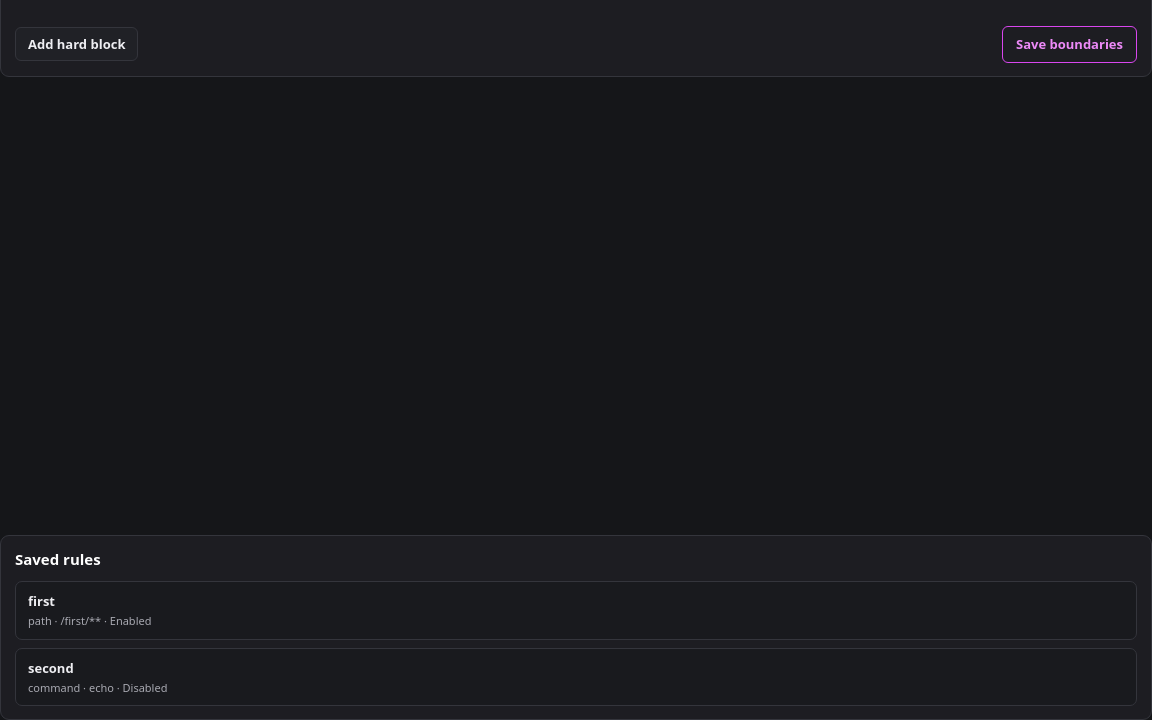
Test: ExecutionBoundaries › portals the inventory and selects saved rules while preserving Rule ID focus as it changes
The width and height of the screenshot is (1152, 720).
Click the button "first path · /first/** · Enabled" at (81, 621), box [28,592,1124,629]
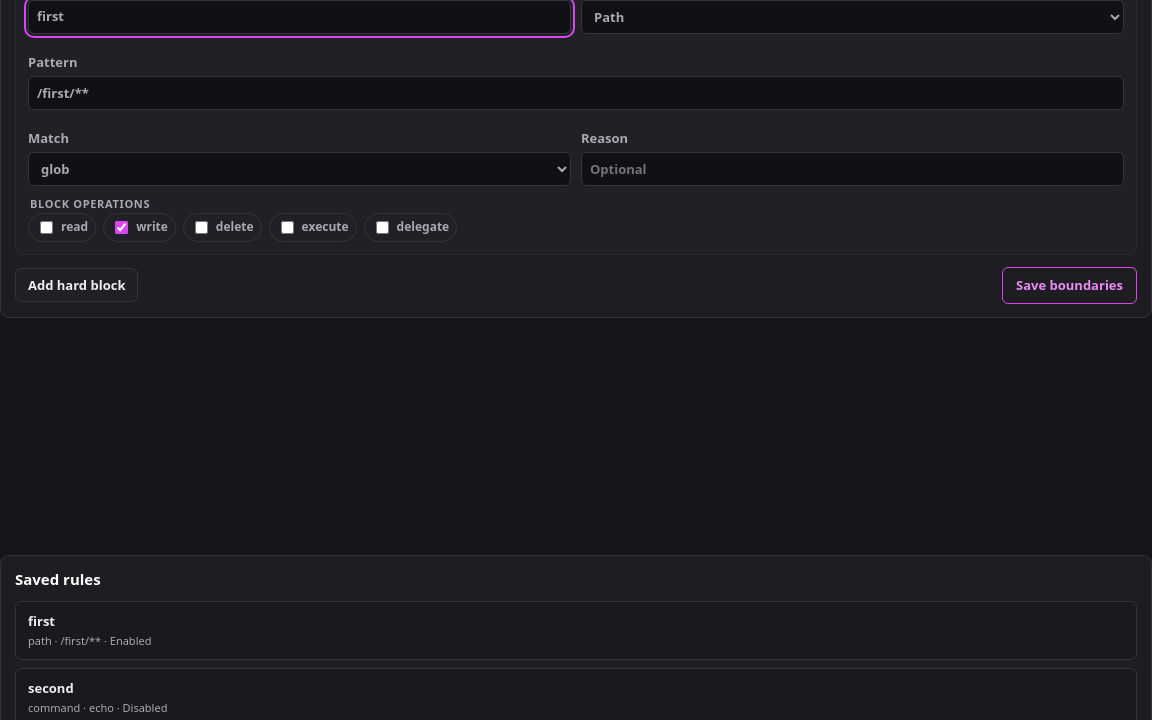
Replace the text in the field labelled "Rule ID" with "first-a" at (300, 17), box [28,0,571,34]
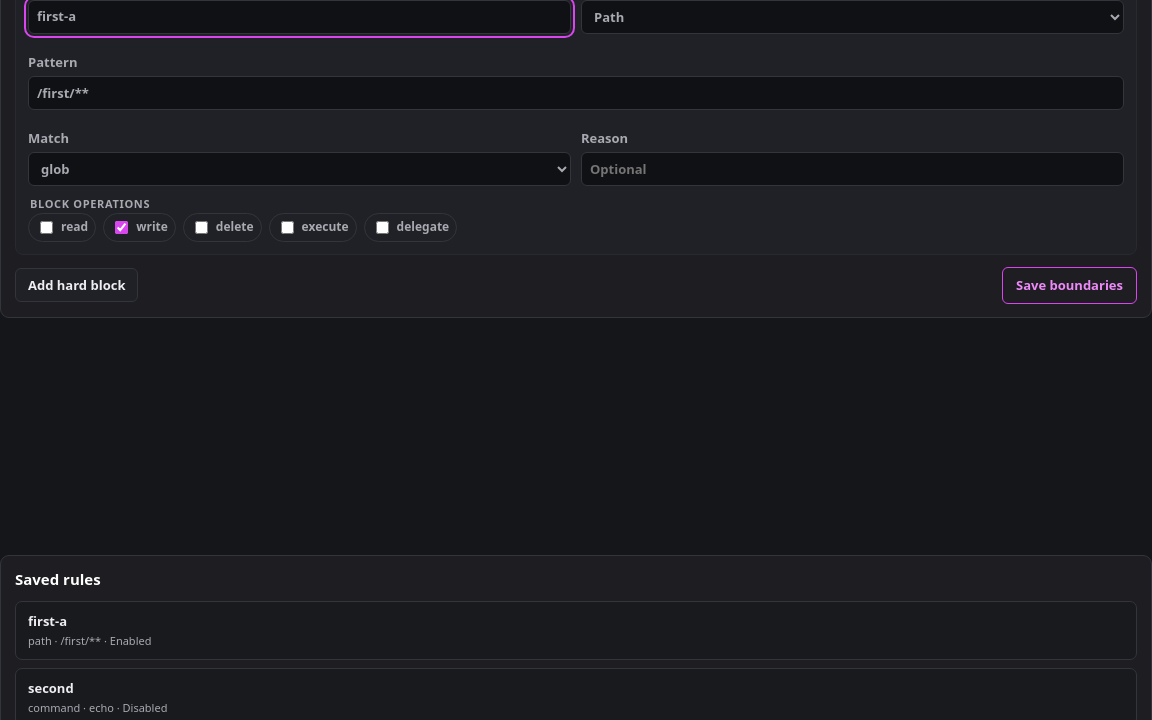
Replace the text in the field labelled "Rule ID" with "first-ab" at (300, 17), box [28,0,571,34]
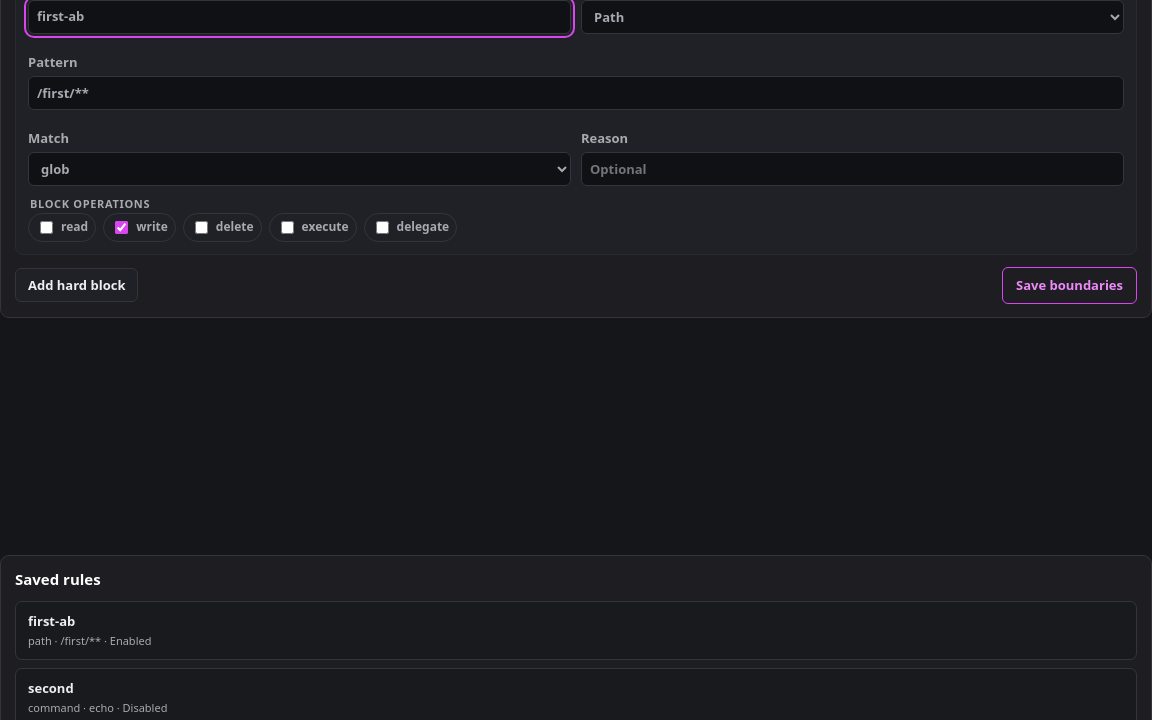
Result: the button "first-ab path · /first/** · Enabled" is pressed at [28,612,1124,649]
Click the button "second command · echo · Disabled" at (51, 688), box [28,679,1124,715]
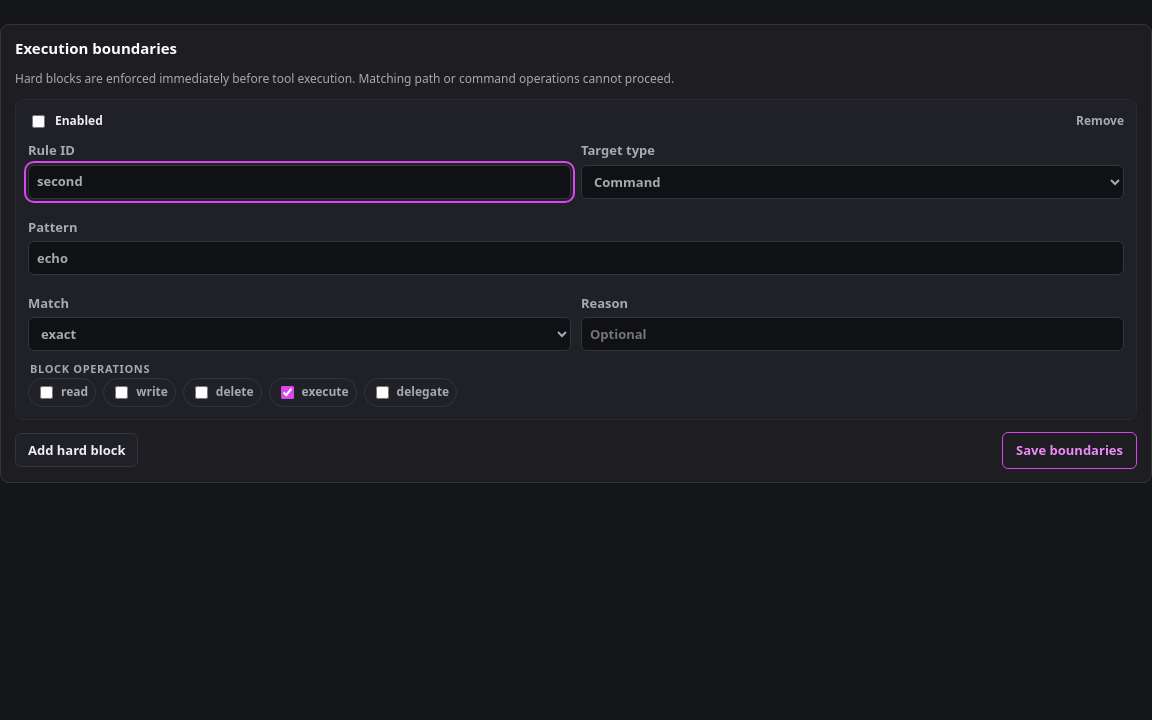
Result: the field labelled "Rule ID" holds "second" at [28,165,571,199]
